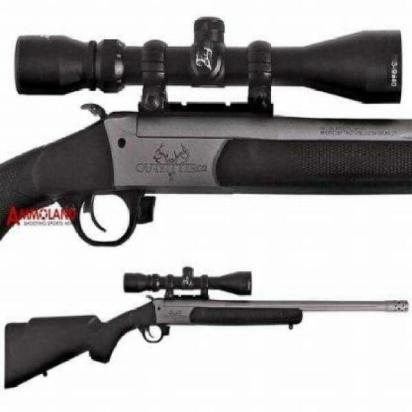Gun: (5, 268, 410, 388)
